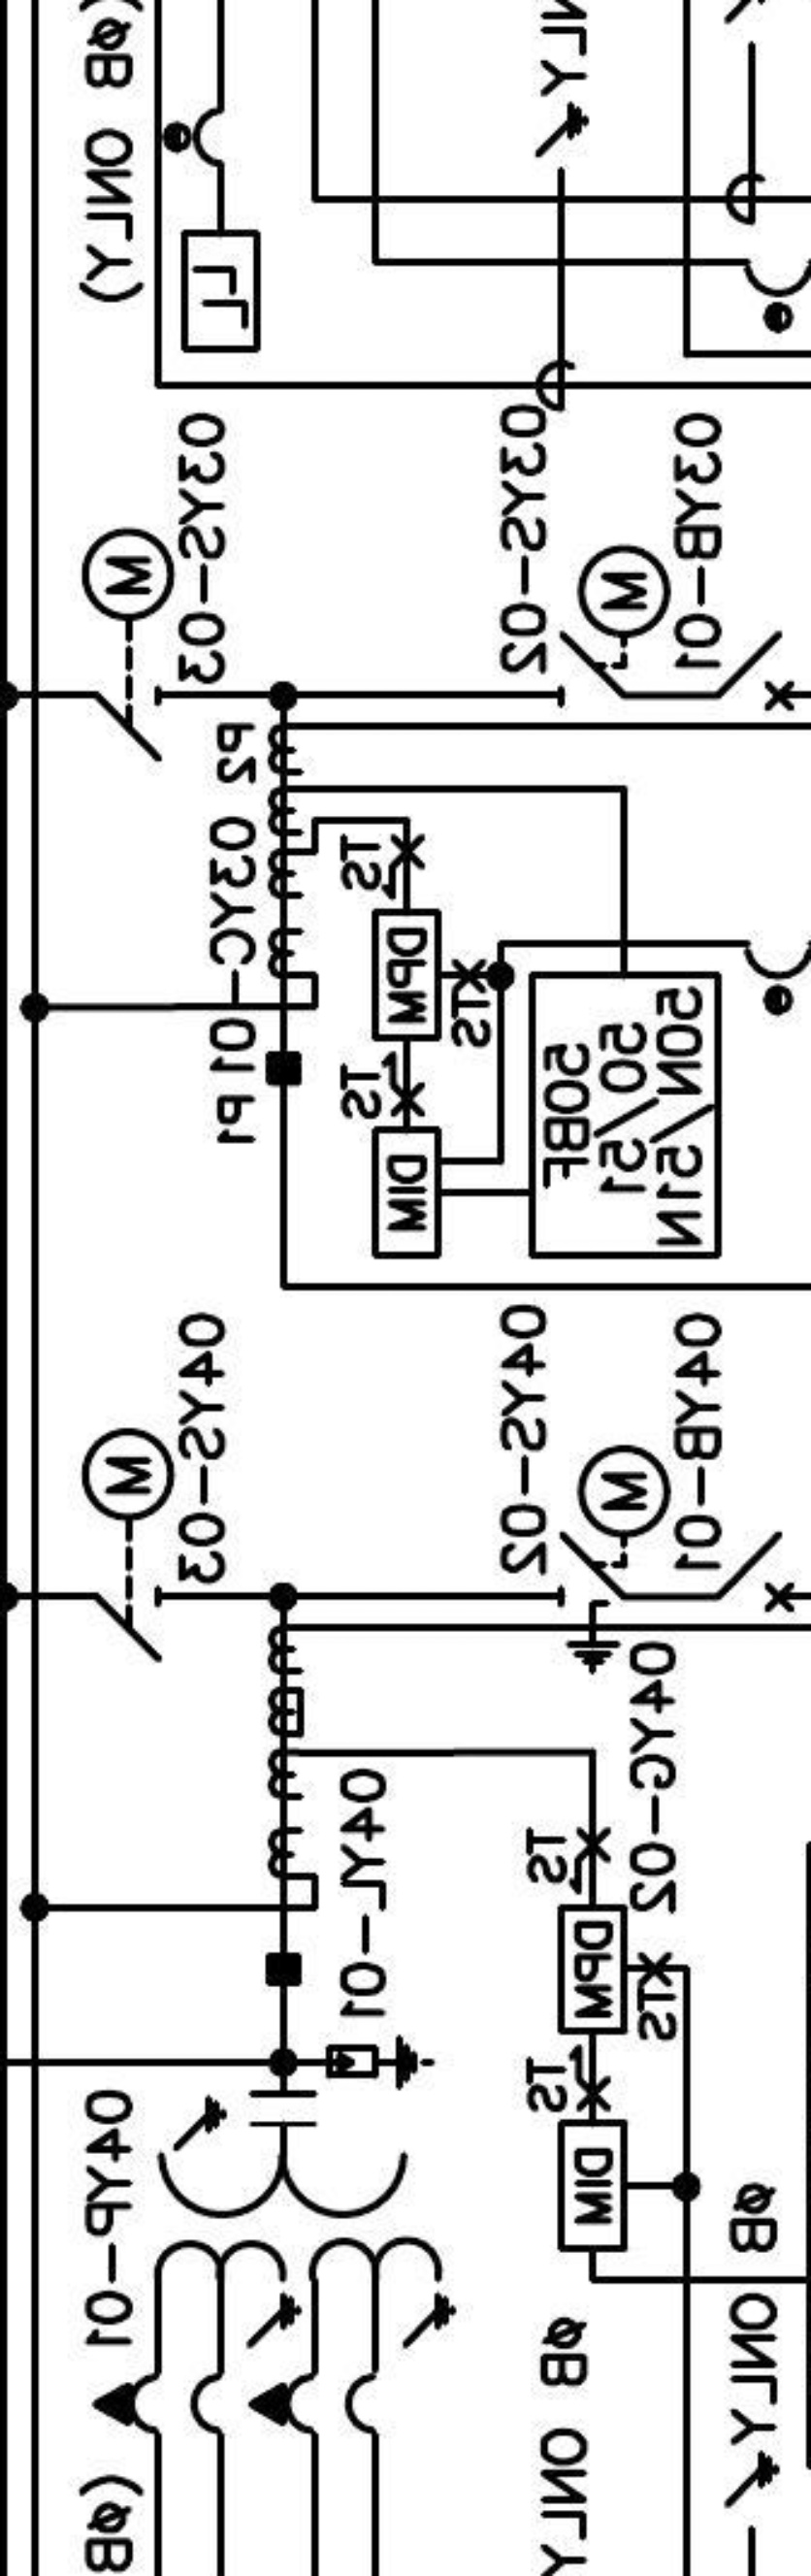115_1way_ds_w_motor: (79, 1426, 177, 1665), (78, 526, 176, 764), (556, 541, 674, 708)
115_3ways_ds_w_motor: (556, 1443, 674, 1677)
115_breaker: (715, 628, 795, 713), (715, 1530, 795, 1614)
115_cvt_1p: (90, 2088, 460, 2440)
115_la: (325, 2034, 437, 2092)
DIM: (370, 1125, 441, 1260), (557, 2120, 629, 2252)
DPM: (370, 907, 442, 1043), (557, 1904, 629, 2036)
LL: (180, 229, 262, 354)
